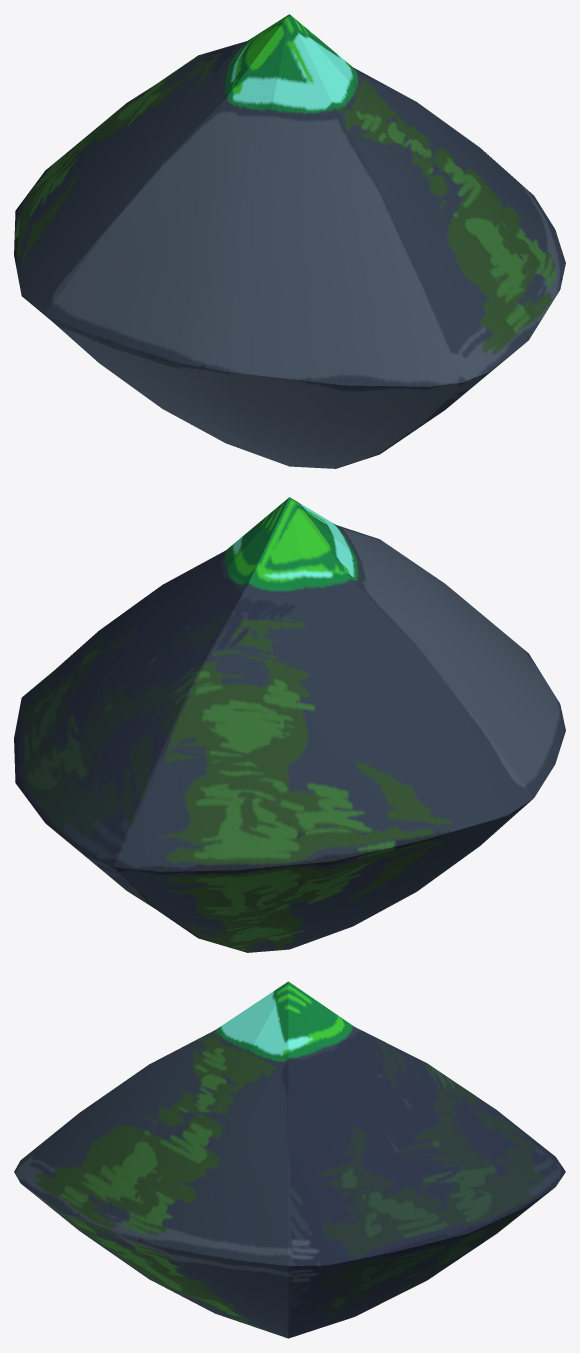
File: Fragment_Full.fbx
The picture shows the model from 3 angles, top to bottom: view 1: azimuth 30°, elevation 25°; view 2: azimuth 150°, elevation 25°; view 3: azimuth 270°, elevation 25°; orthographic projection. The views are drawn at different scales.
Visible parts, largest first — view 1: Fragment; view 2: Fragment; view 3: Fragment.
Boxes of the visible parts, <box> form: Fragment: <box>14,14,565,468</box>; Fragment: <box>14,497,565,952</box>; Fragment: <box>14,981,565,1338</box>.
Size of the model in its own units: 0.2546 by 0.3151 by 0.225.
Materials: 1 (1 with a texture image).
